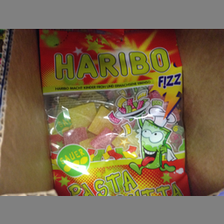candy: (39, 31, 187, 196)
